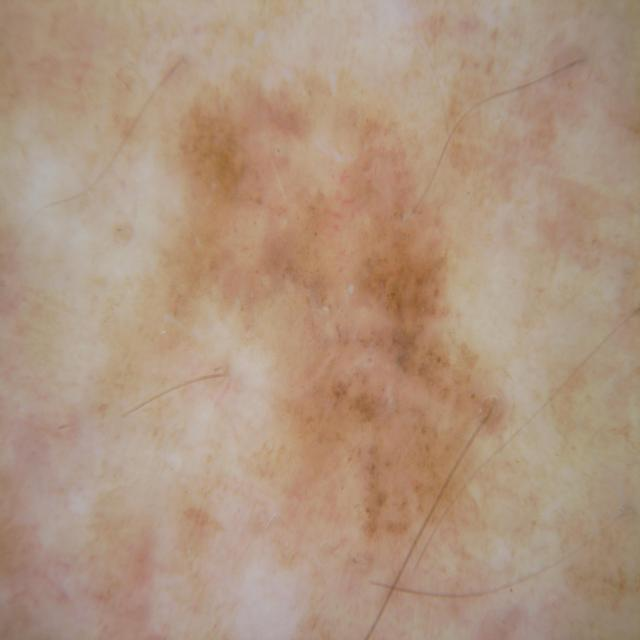Skin-Cancer Melanoma: (1, 4, 640, 630)
